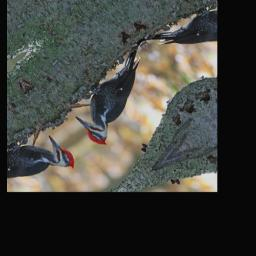Woodpecker: (55, 41, 185, 151)
